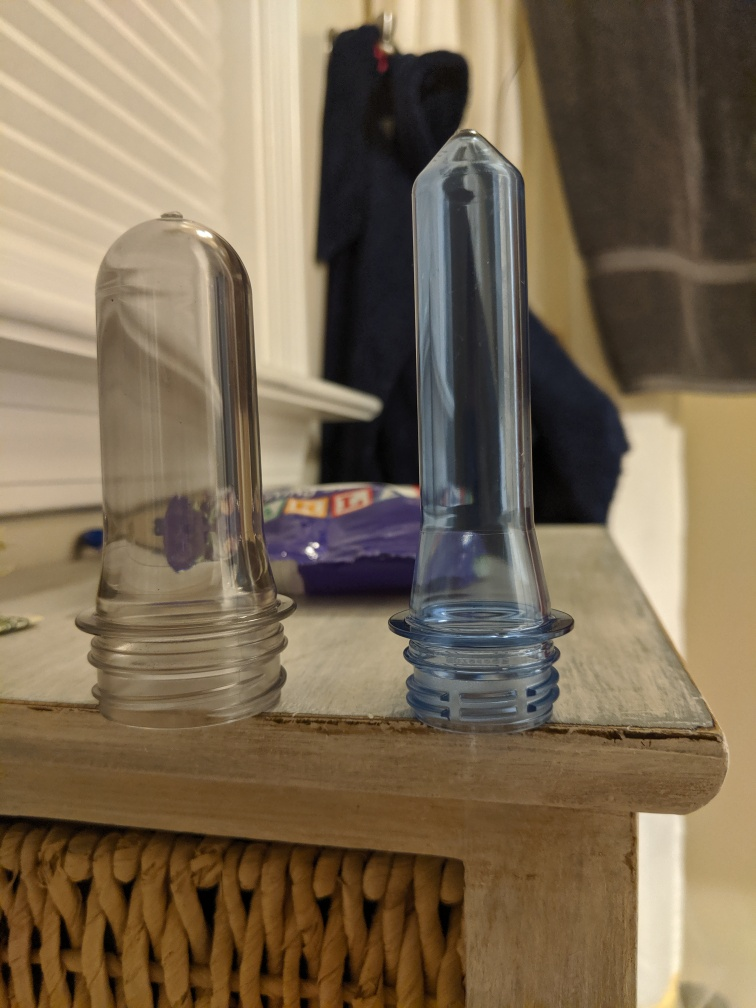preform: (380, 122, 586, 733), (68, 199, 303, 734)
